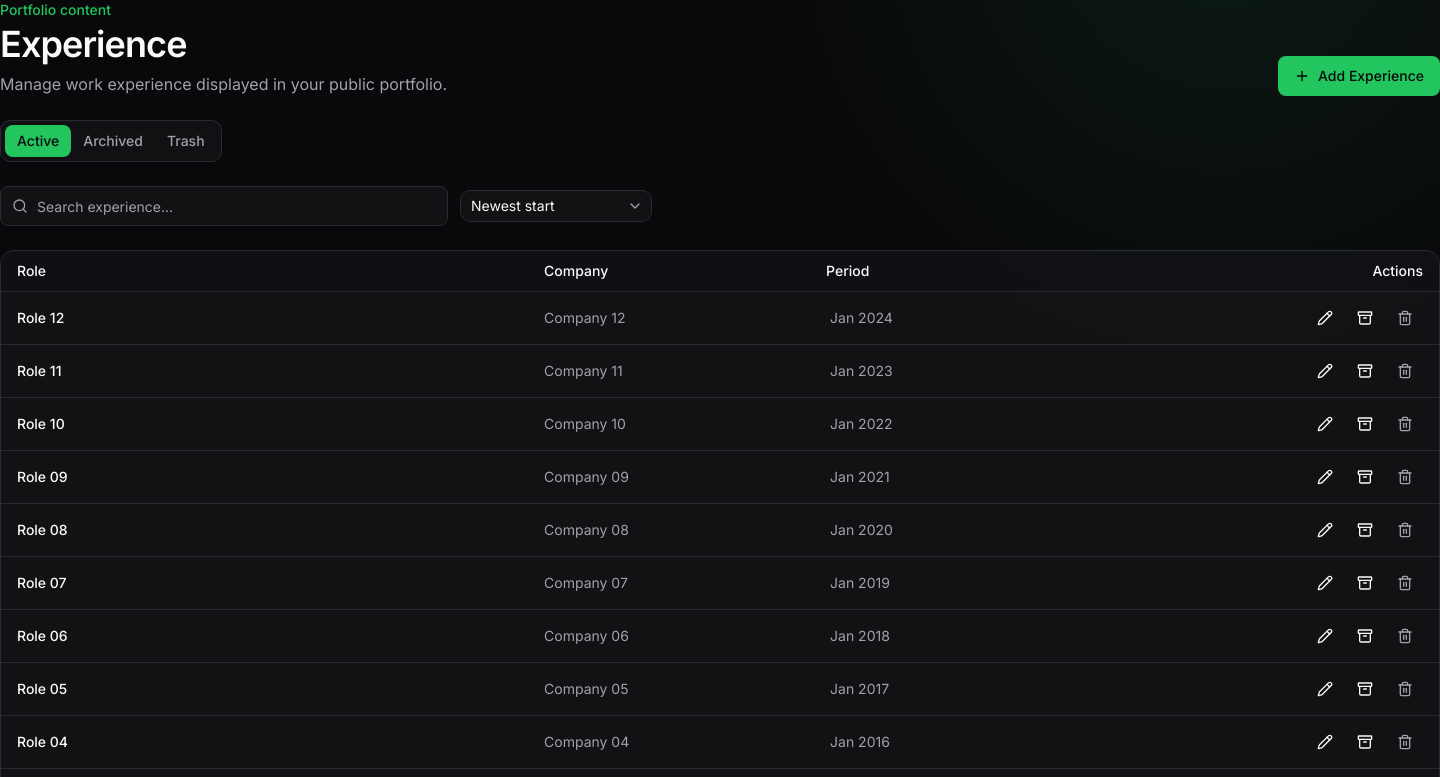
Test: ExperienceView › searches entries and writes ?q=
The image size is (1440, 777).
In the search field: (224, 206) 0,186 -> 448,226, type "Role 05"
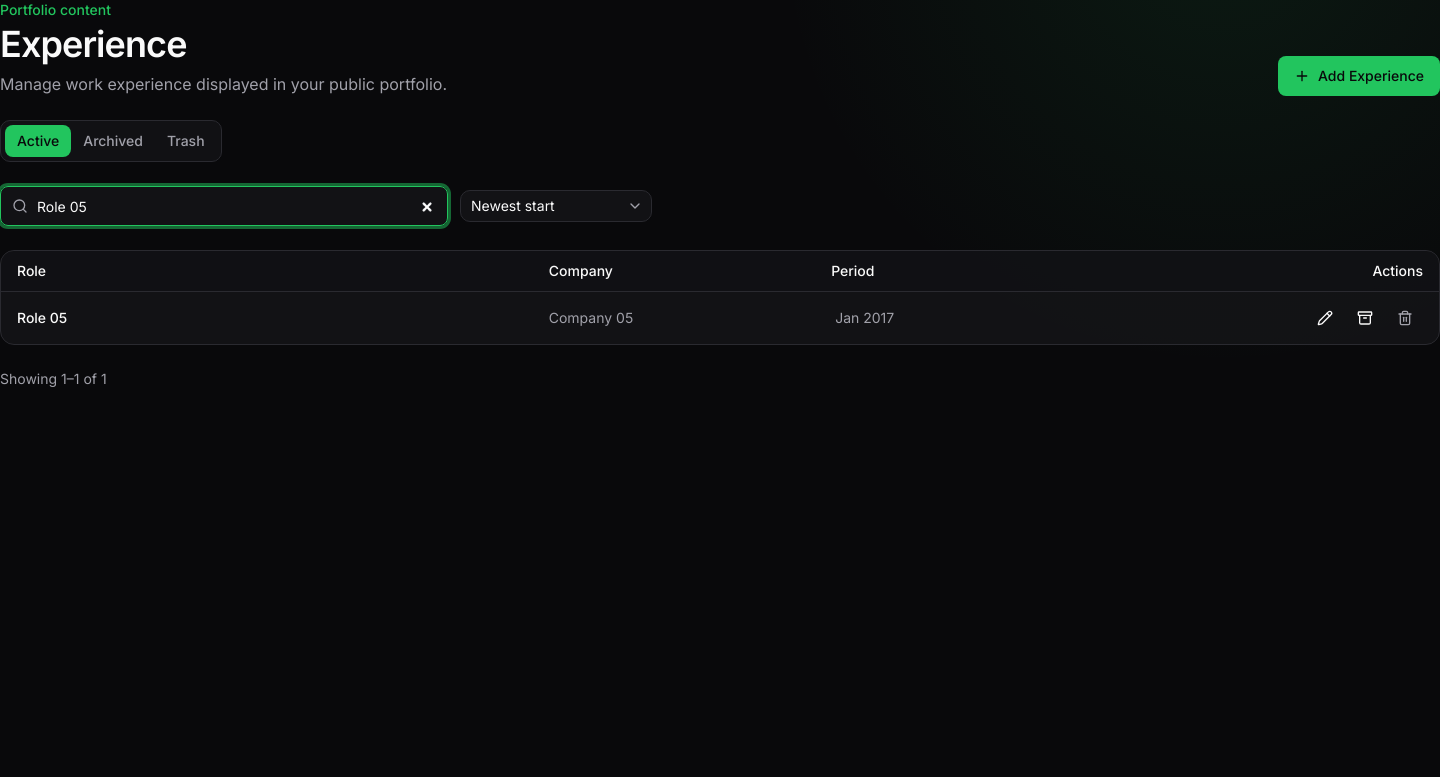
Expected: the text "Showing 1–1 of 1" is shown, 0,368 -> 107,388
